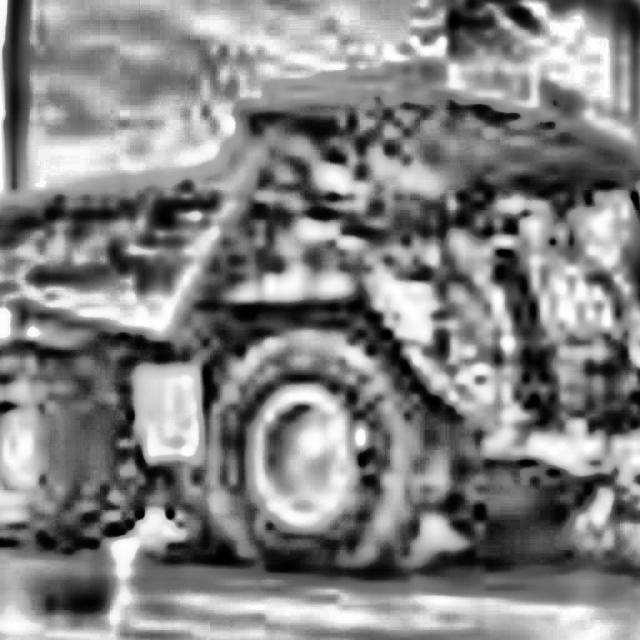dump_truck: (0, 26, 640, 612)
